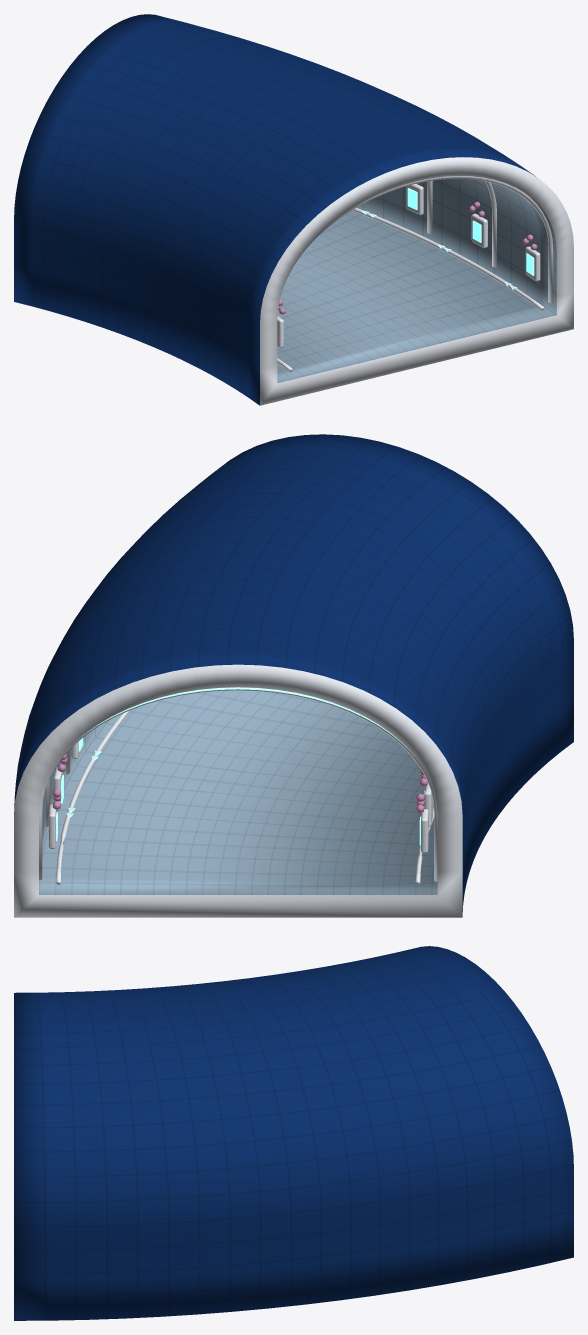
The model's file is curve_left_30.glb.
3 renders of one model, top to bottom at view 1: azimuth 30°, elevation 25°; view 2: azimuth 150°, elevation 25°; view 3: azimuth 270°, elevation 25°, orthographic. The views are drawn at different scales.
Parts seen in each view (by area): view 1: TunnelGeometry; view 2: TunnelGeometry; view 3: TunnelGeometry.
Part boxes in pixels (box(x1,y1,x2,y2)): TunnelGeometry: box(14, 14, 573, 405); TunnelGeometry: box(14, 434, 573, 917); TunnelGeometry: box(14, 946, 573, 1320).
Size of the model in its own units: 19.1 by 9.52 by 21.83.
5 materials, 2 textured.
